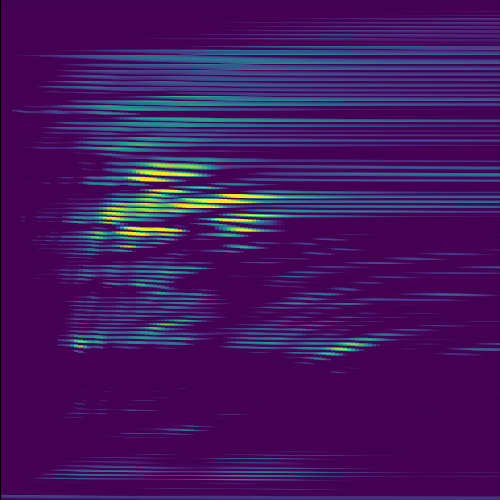semblance: (148, 191, 288, 213), (123, 161, 222, 185), (201, 212, 279, 240)
